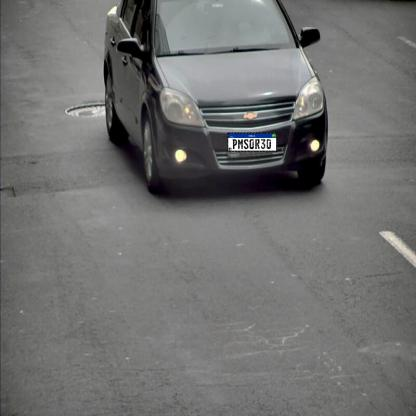PlacaM: (227, 132, 277, 152)
